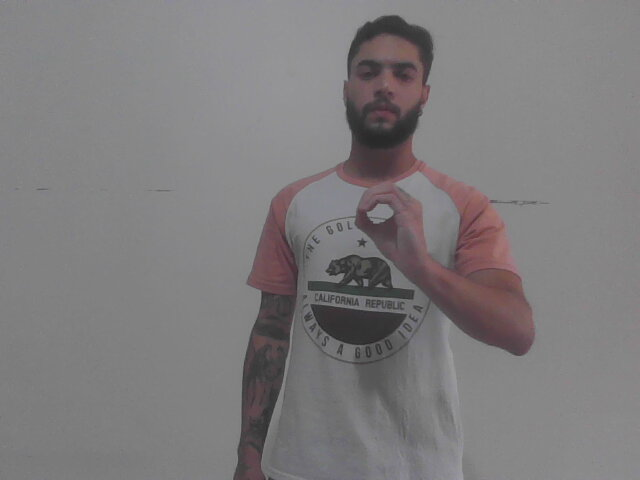o: (346, 174, 441, 271)
